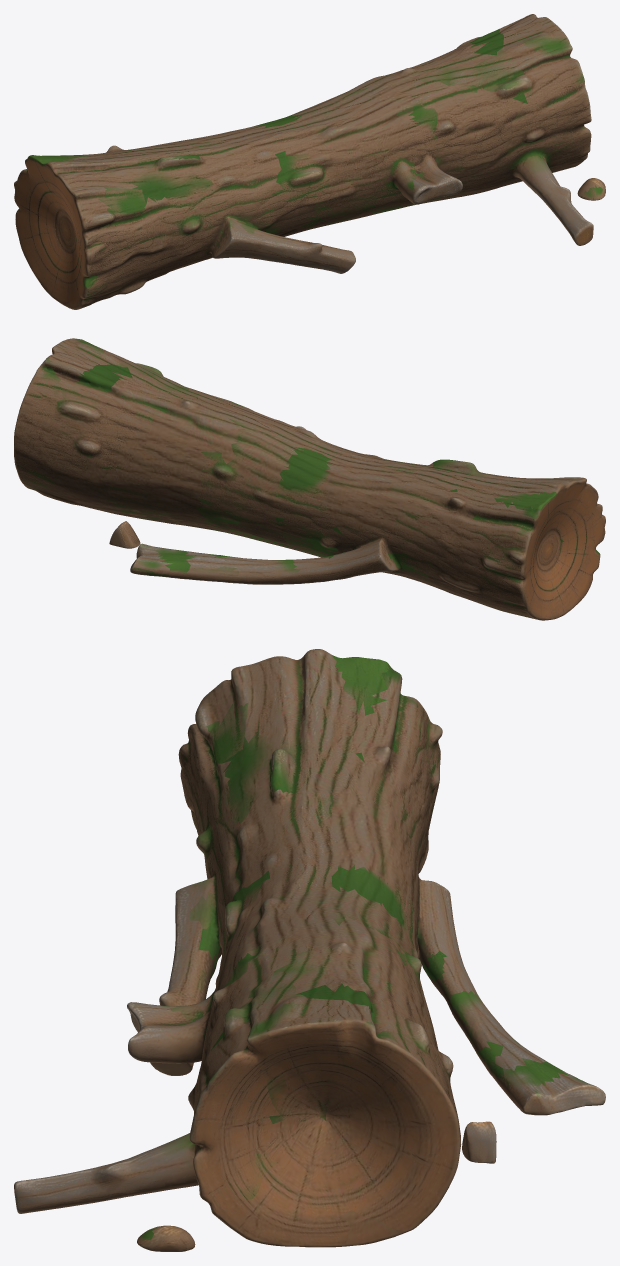
Rendered from woodlog-moss-a.glb.
3 renders of one model, top to bottom at view 1: azimuth 30°, elevation 25°; view 2: azimuth 150°, elevation 25°; view 3: azimuth 270°, elevation 25°, orthographic. The views are drawn at different scales.
Parts seen in each view (by area): view 1: Mesh_0; view 2: Mesh_0; view 3: Mesh_0.
Boxes of the visible parts, box(x1,y1,x2,y2) form: Mesh_0: box(14, 14, 605, 309); Mesh_0: box(14, 338, 605, 620); Mesh_0: box(14, 649, 605, 1251).
Size of the model in its own units: 1.2 by 0.352 by 0.7239.
1 material, 1 textured.
